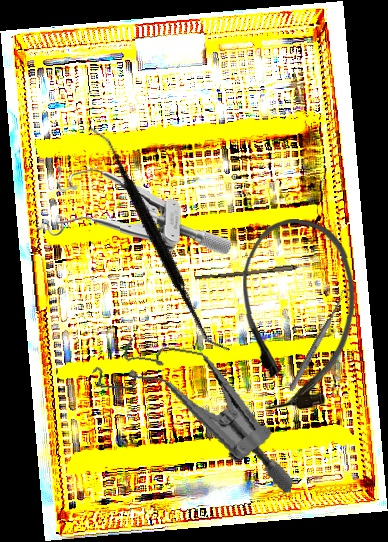Cannula: (240, 218, 356, 411)
Spatula Surgical: (24, 123, 294, 354)
Speculum: (77, 330, 313, 495), (36, 165, 234, 255)
Surgical Spoon: (287, 288, 350, 393), (195, 259, 331, 283)
